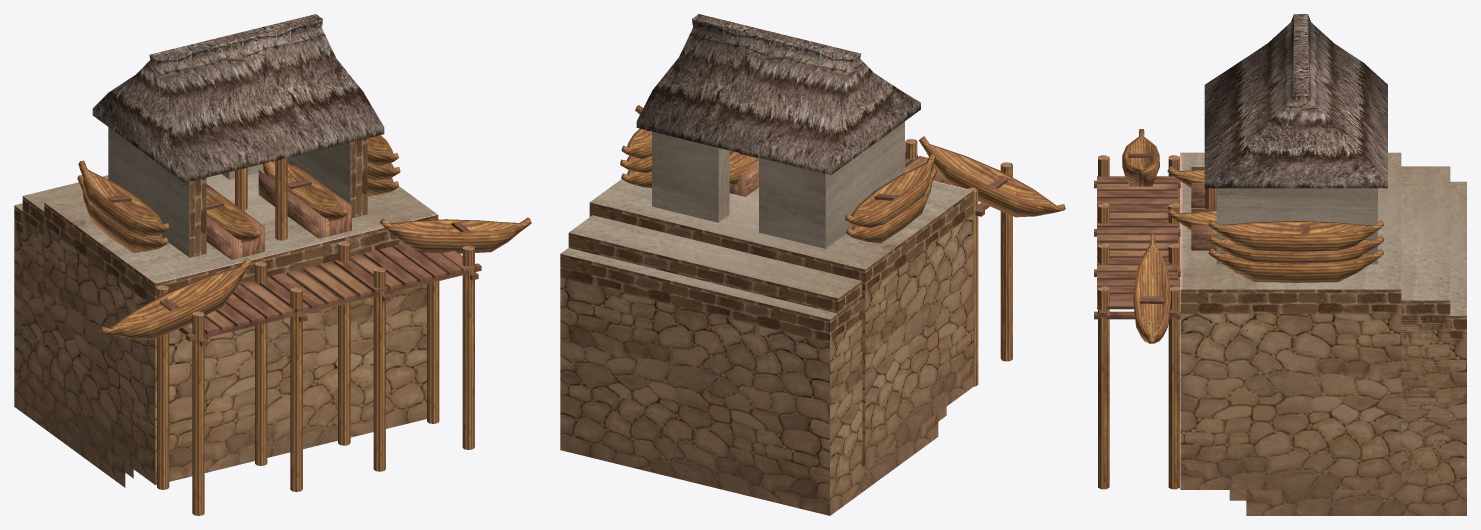
The model's file is tara_dock.dae.
3 views of the same model, side by side, from view 1: azimuth 30°, elevation 25°; view 2: azimuth 150°, elevation 25°; view 3: azimuth 270°, elevation 25° (orthographic). The views are drawn at different scales.
Parts seen in each view (by area): view 1: Dock; view 2: Dock; view 3: Dock.
Boxes of the visible parts, x1,y1,x2,y2 form: Dock: [14, 14, 531, 515]; Dock: [560, 14, 1065, 515]; Dock: [1094, 14, 1466, 515].
Size of the model in its own units: 32.4 by 24.24 by 28.3.
